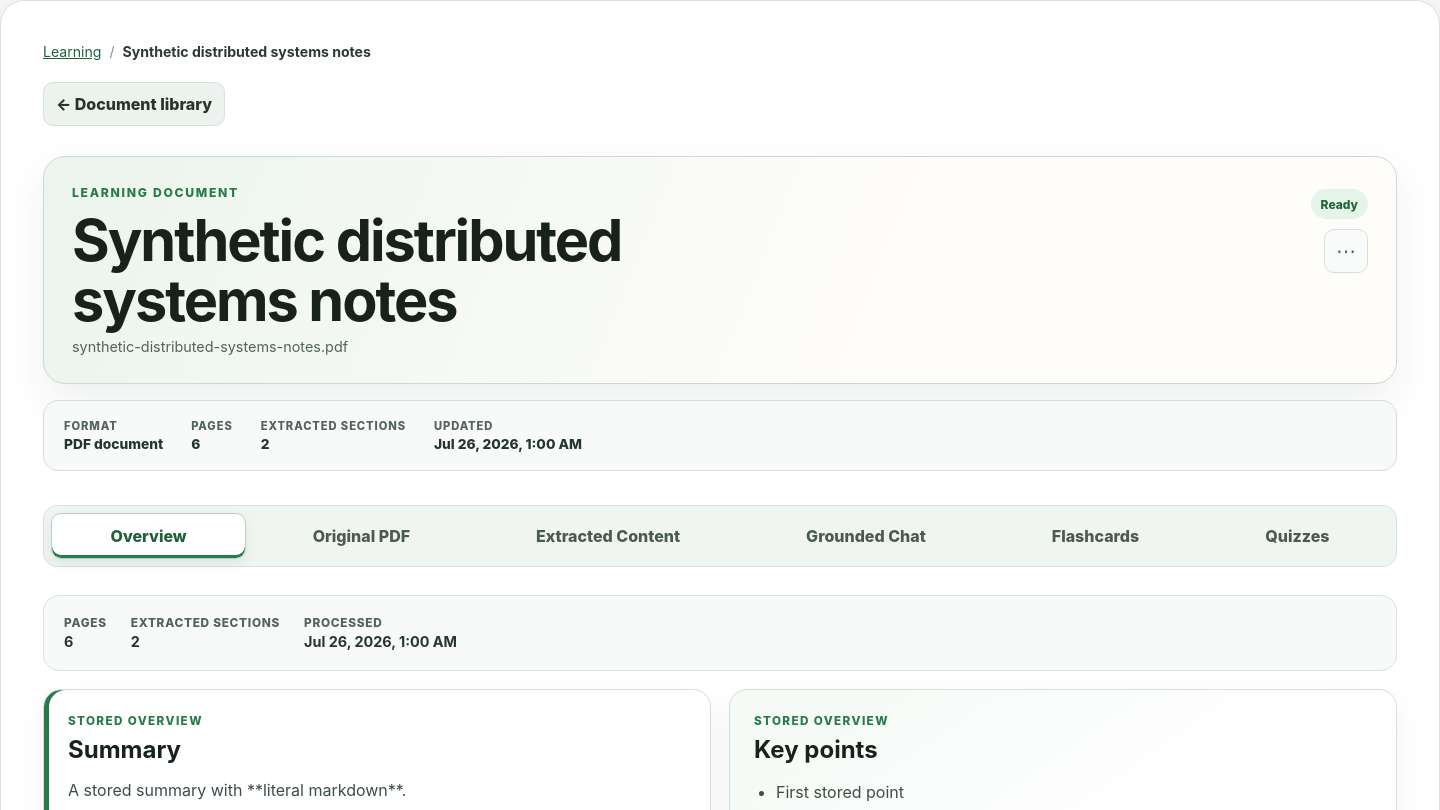
Learning document workspace › offers owned quiz generation and records only for a ready document
The width and height of the screenshot is (1440, 810).
Click the tab "Quizzes": (1297, 536) [1206,513,1389,559]
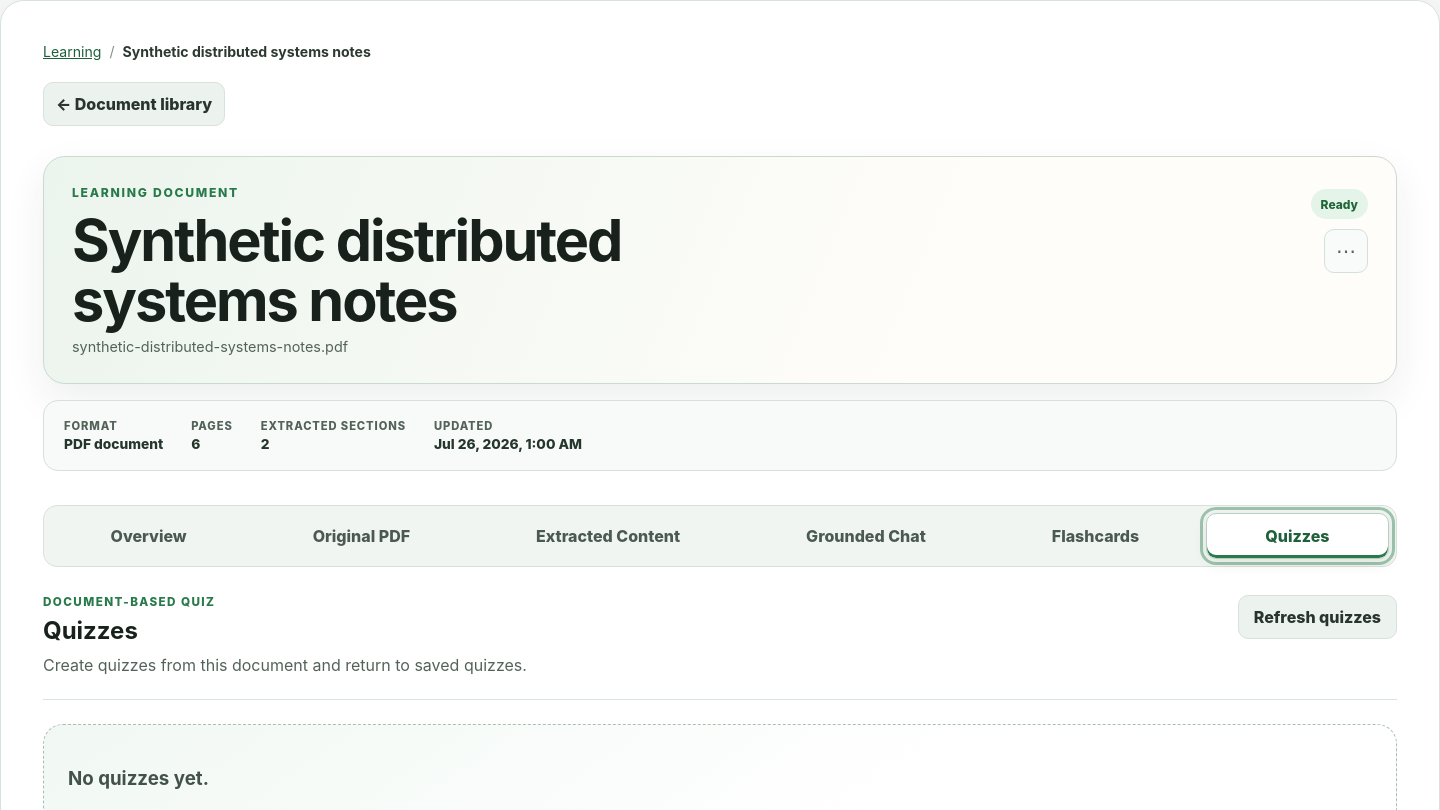
Now the heading "Quizzes" is shown, box [43,616,138,645]
Now the heading "No quizzes yet." is shown, box [68,767,209,790]
